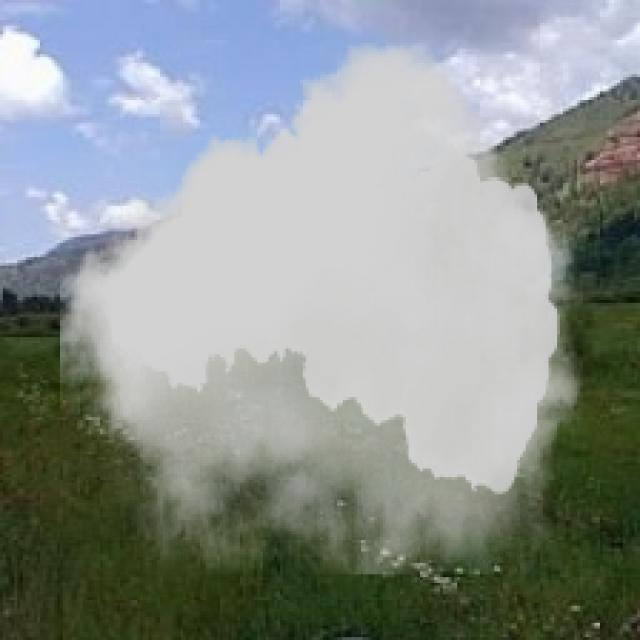smoke: (60, 43, 583, 574)
